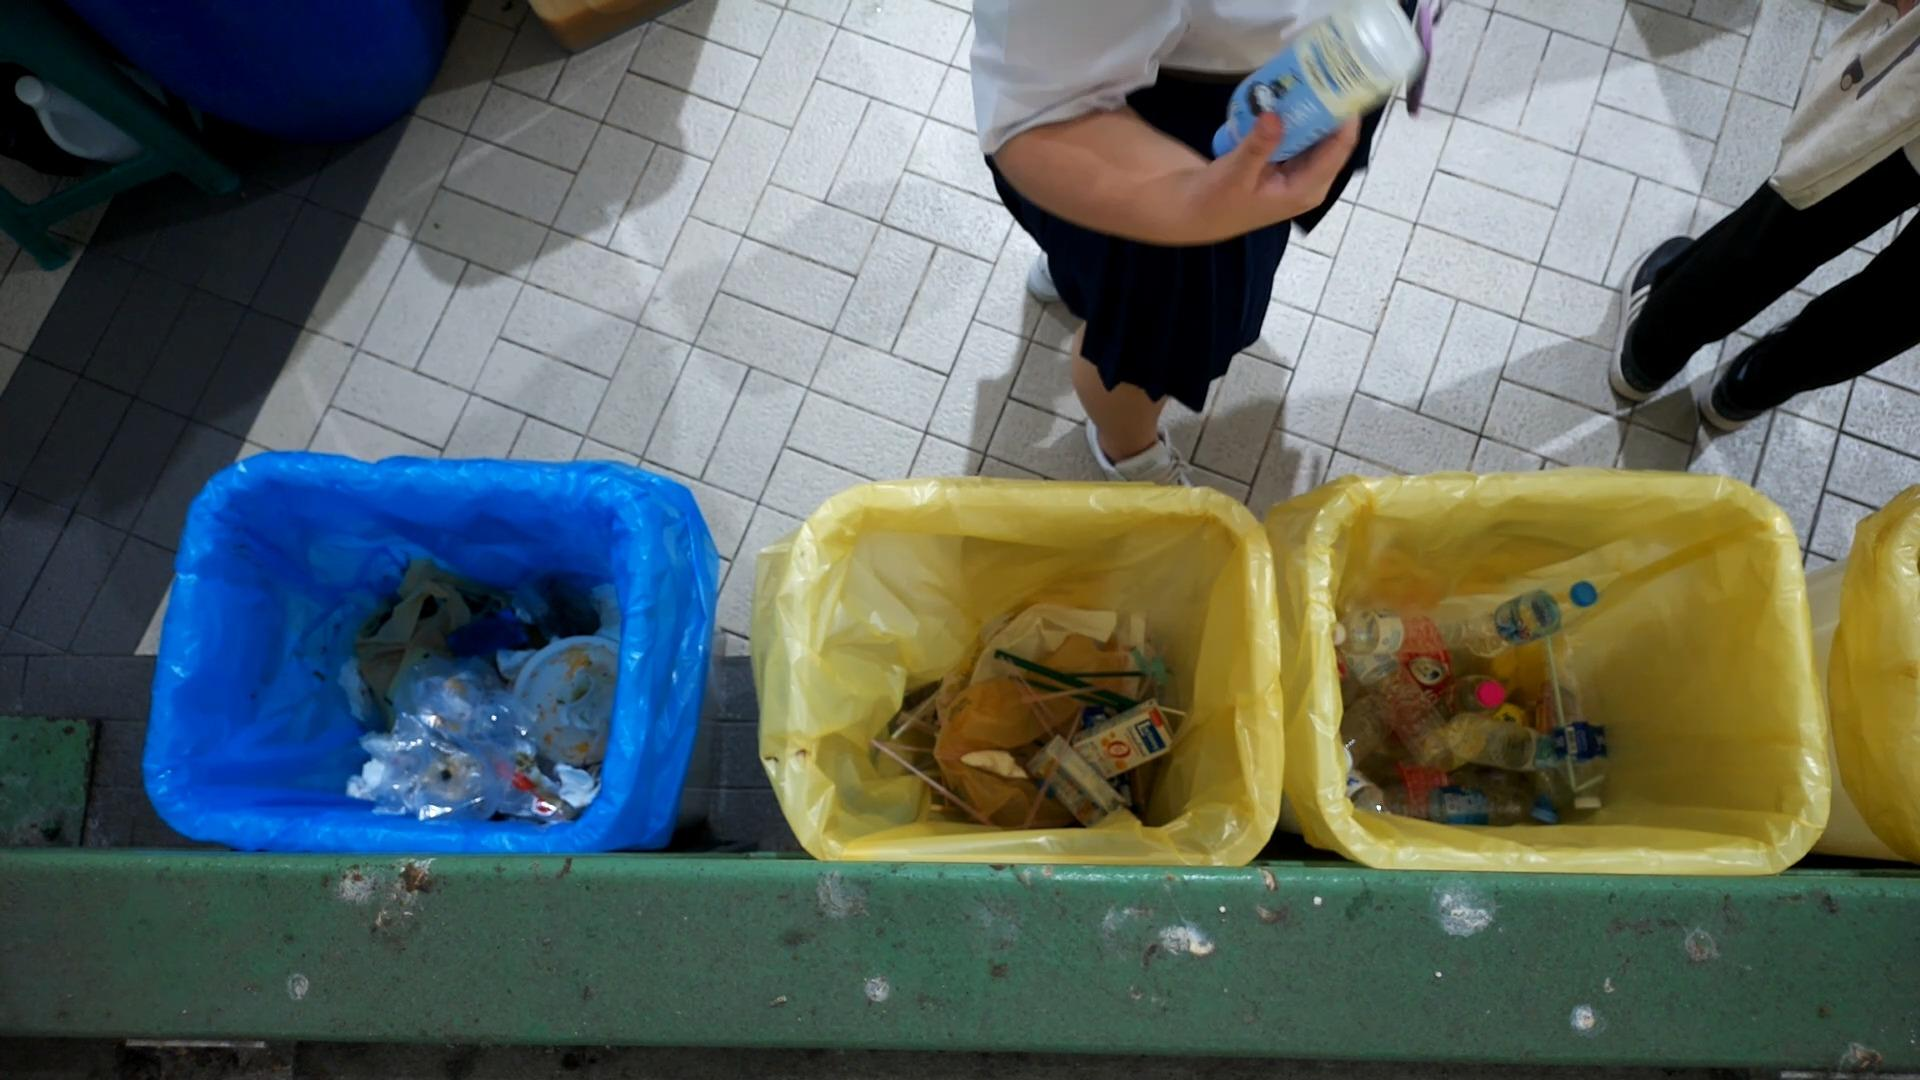dirty food container: (513, 634, 621, 765)
milk carton: (1027, 735, 1125, 829), (1073, 698, 1172, 779)
plastic bottle: (1212, 0, 1428, 160), (1337, 630, 1470, 771), (1538, 633, 1614, 811), (1460, 583, 1601, 655), (1335, 607, 1523, 657), (1445, 712, 1563, 770)
straw: (1544, 636, 1605, 791), (1022, 700, 1087, 831), (1025, 703, 1089, 828), (1000, 658, 1063, 738), (893, 687, 943, 740), (1025, 676, 1133, 700), (864, 738, 960, 764)
tissue paper: (959, 749, 1027, 778)
